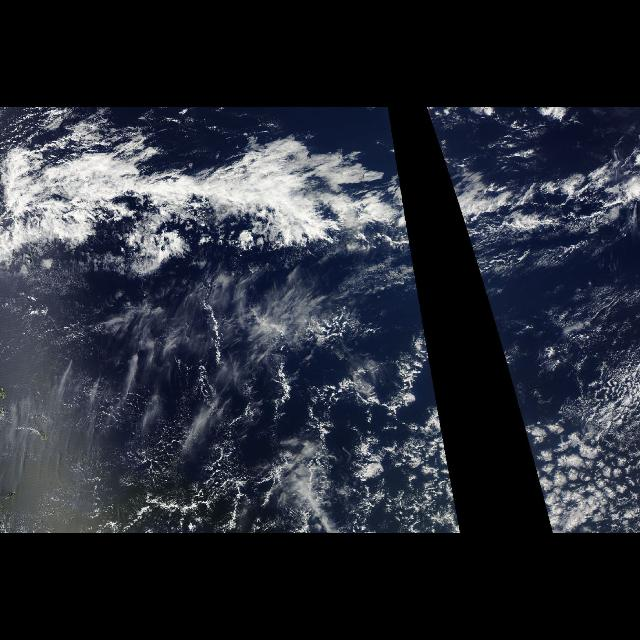Fish: (1, 116, 420, 300), (427, 116, 637, 300)
Flower: (508, 370, 640, 526), (368, 370, 459, 526)
